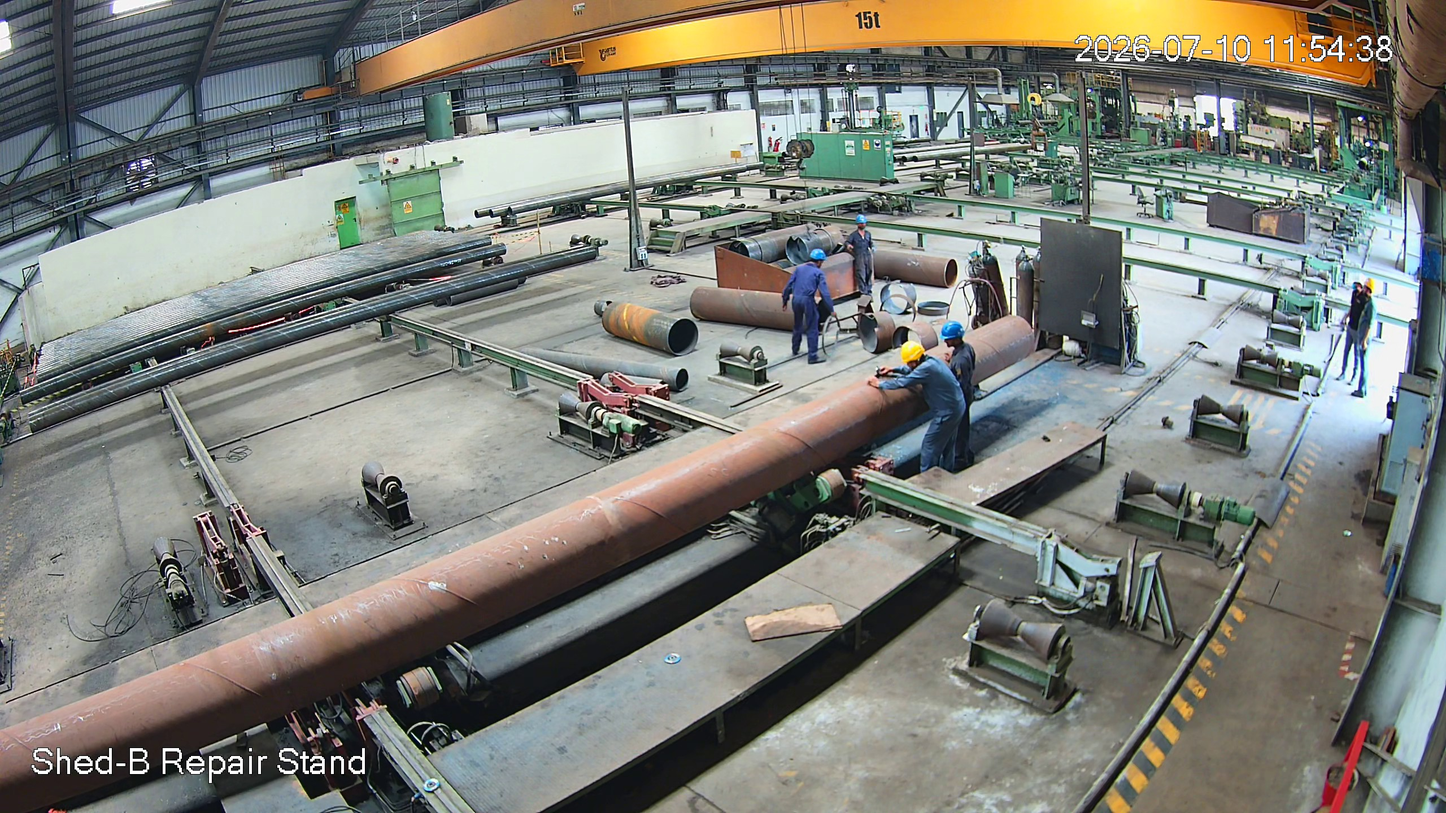Helmet: (936, 317, 973, 364), (800, 240, 832, 280), (895, 332, 926, 373), (852, 207, 872, 238), (1363, 274, 1378, 302)
Person: (891, 337, 959, 482), (933, 323, 983, 474), (787, 246, 839, 362), (1356, 278, 1383, 415), (846, 211, 880, 296), (1348, 275, 1363, 396)
